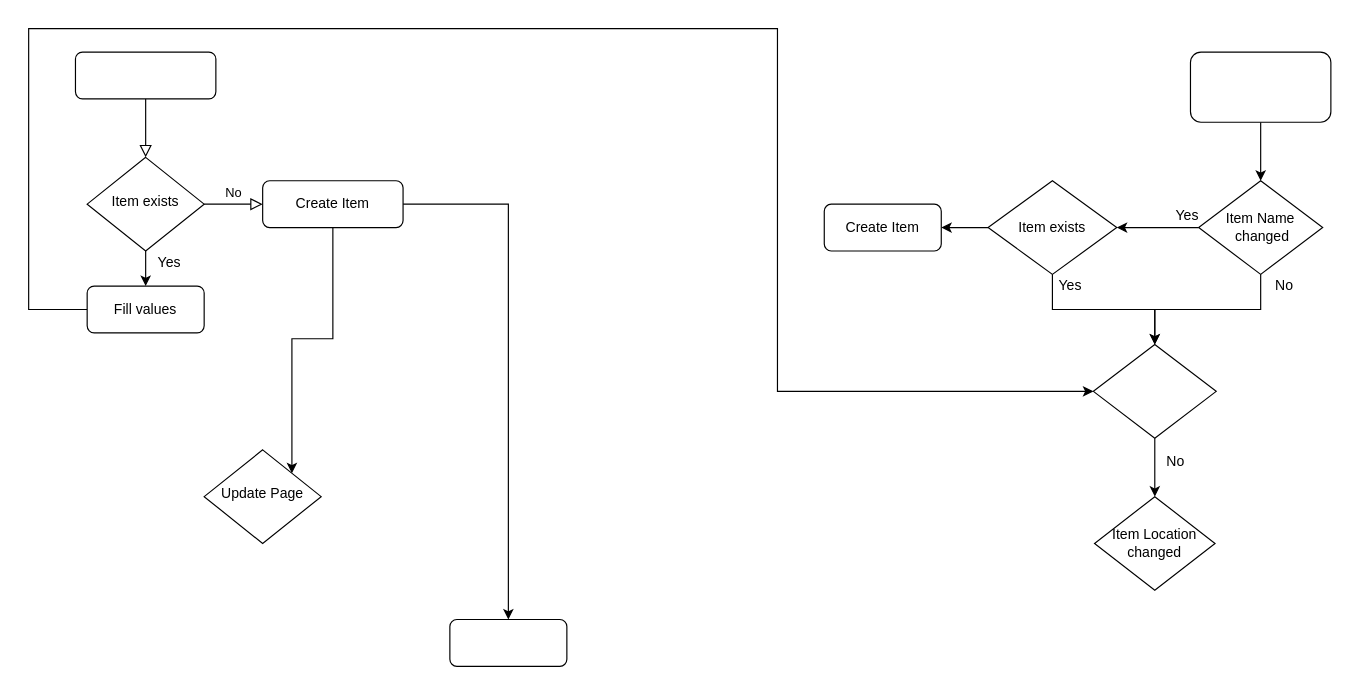
Image size: 1351x687. Some labels were removed from this diagram. The shapes that lost their labels are listed below. From the top down, each one's centre as x and y in pixels, then its label:
(x=145, y=75): Create Main Entry
(x=1260, y=86): Update Main Entry
(x=1154, y=390): Item Category changed
(x=508, y=642): Log
